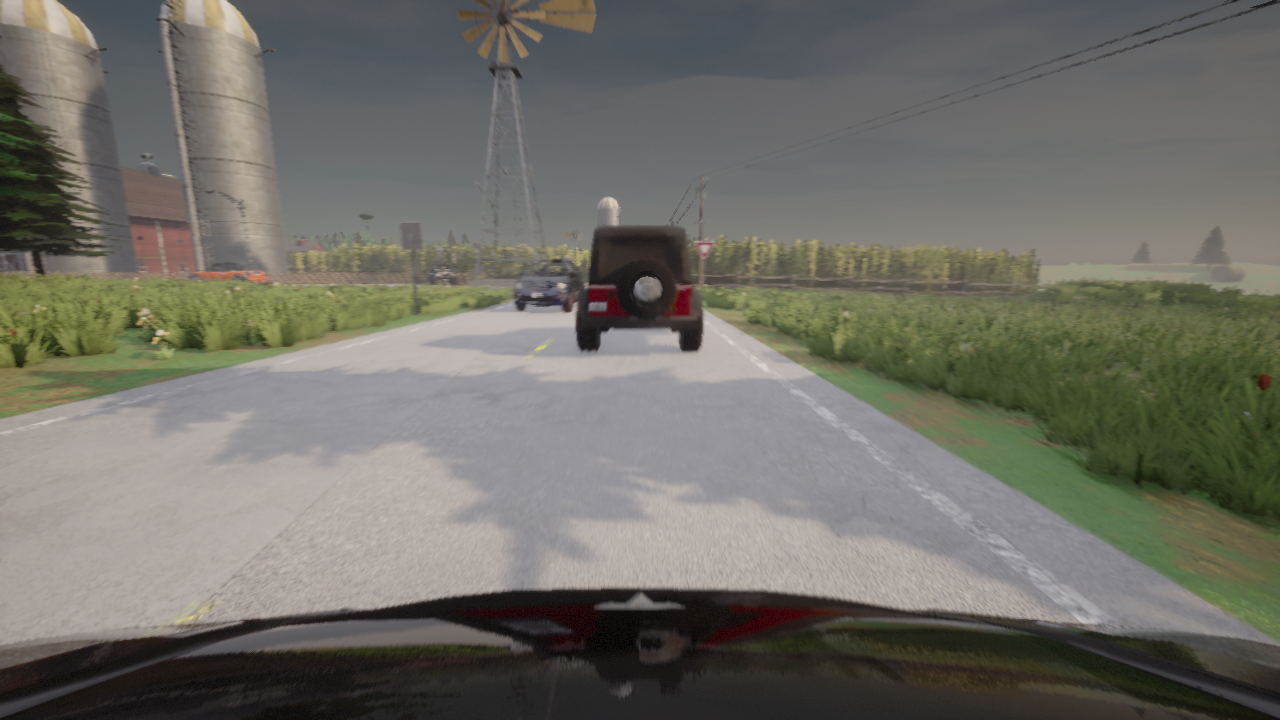cyclist: (0, 588, 1279, 719), (576, 226, 702, 350), (513, 260, 585, 311), (188, 263, 268, 284), (429, 264, 454, 284)
